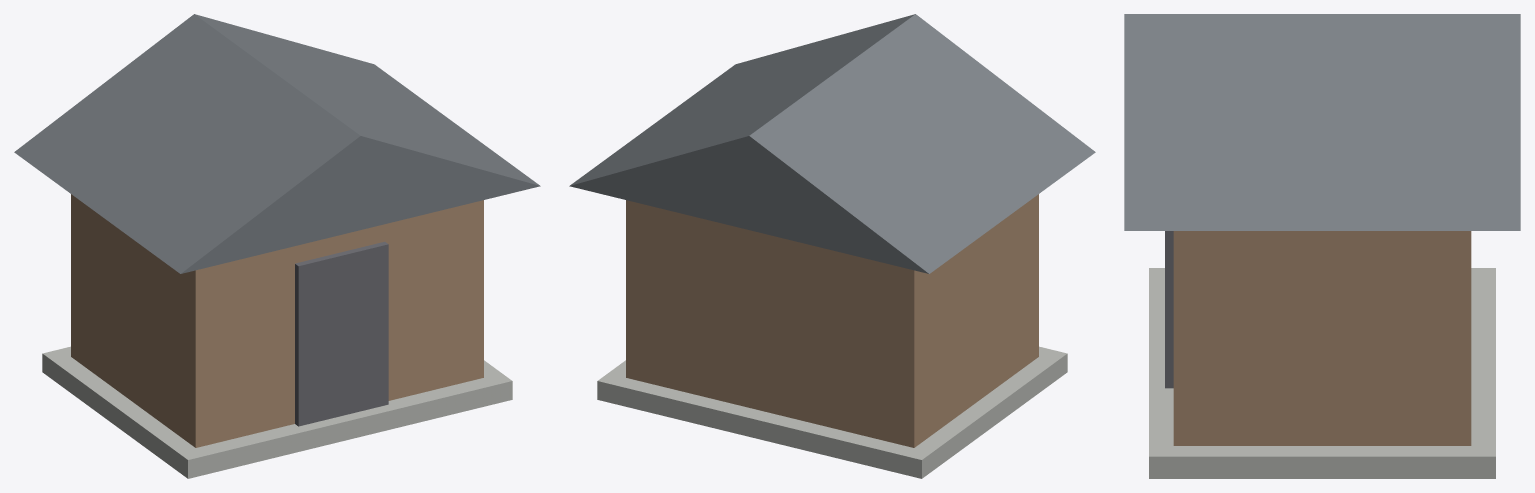
File: shed_tool_wood.glb
3 renders of one model, left to right at view 1: azimuth 30°, elevation 25°; view 2: azimuth 150°, elevation 25°; view 3: azimuth 270°, elevation 25°, orthographic. The views are drawn at different scales.
Visible parts, largest first — view 1: shed_tool_wood; view 2: shed_tool_wood; view 3: shed_tool_wood.
Boxes of the visible parts, x1,y1,x2,y2 form: shed_tool_wood: (14, 14, 540, 478); shed_tool_wood: (569, 14, 1095, 478); shed_tool_wood: (1124, 14, 1520, 478).
Size of the model in its own units: 4 by 3.3 by 3.2.
